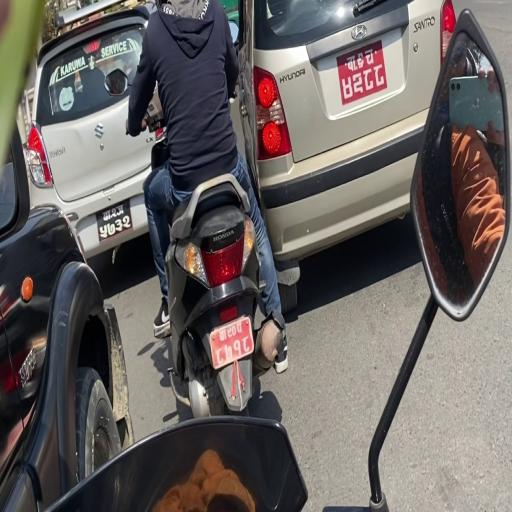license_plate: (335, 38, 389, 109), (208, 315, 256, 371), (96, 200, 133, 242)
